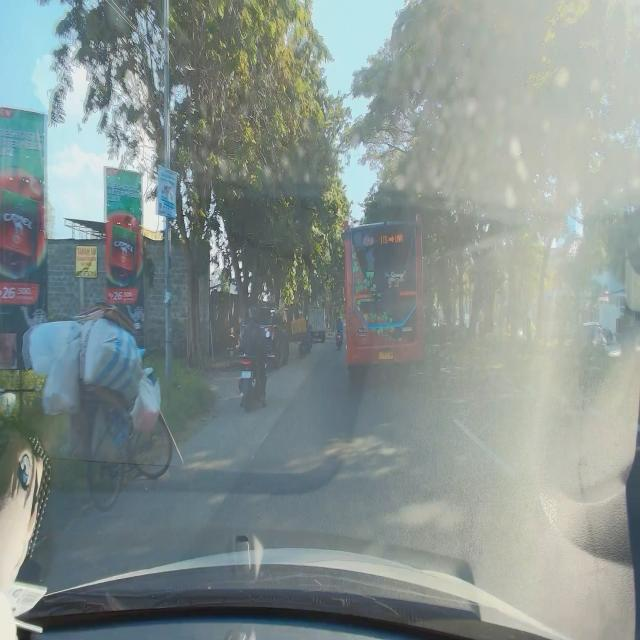bus: (342, 211, 428, 386)
license-plate: (378, 350, 394, 360)
